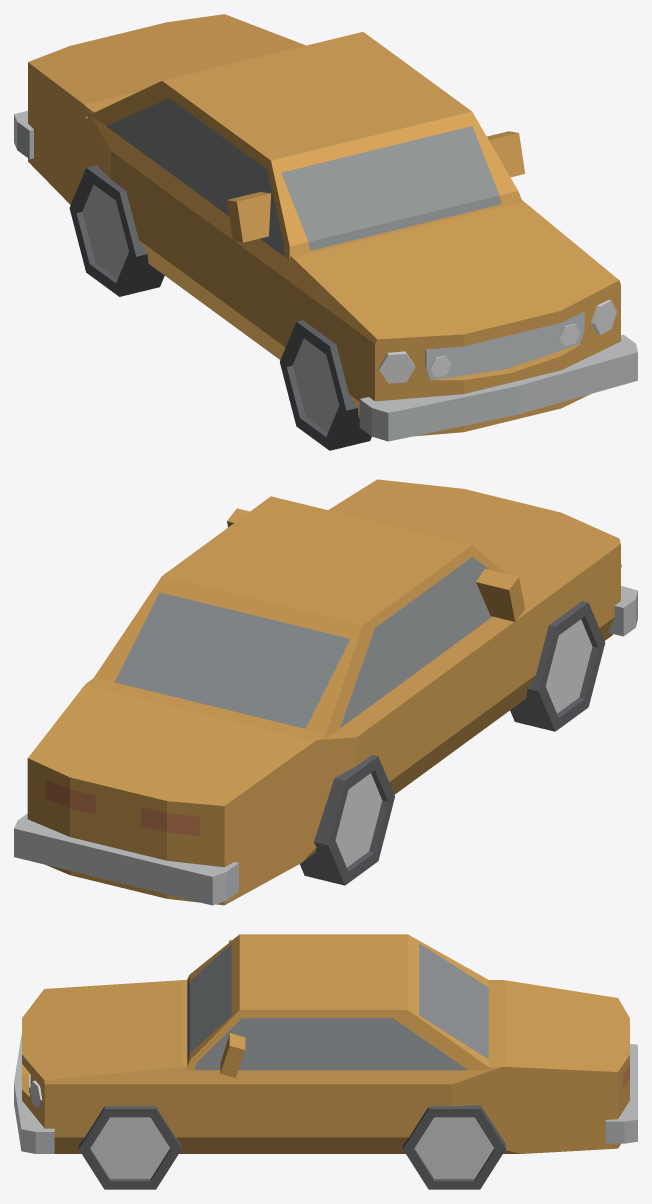
File: Car.glb
3 views of the same model, one above another, from view 1: azimuth 30°, elevation 25°; view 2: azimuth 150°, elevation 25°; view 3: azimuth 270°, elevation 25° (orthographic). The views are drawn at different scales.
Visible parts, largest first — view 1: Mesh_Mesh_head_geo.001_lambert2SG.001; view 2: Mesh_Mesh_head_geo.001_lambert2SG.001; view 3: Mesh_Mesh_head_geo.001_lambert2SG.001.
Part boxes in pixels (<box>): Mesh_Mesh_head_geo.001_lambert2SG.001: <box>14,14,637,450</box>; Mesh_Mesh_head_geo.001_lambert2SG.001: <box>14,479,637,905</box>; Mesh_Mesh_head_geo.001_lambert2SG.001: <box>14,934,637,1189</box>.
Size of the model in its own units: 31 by 23 by 77.
